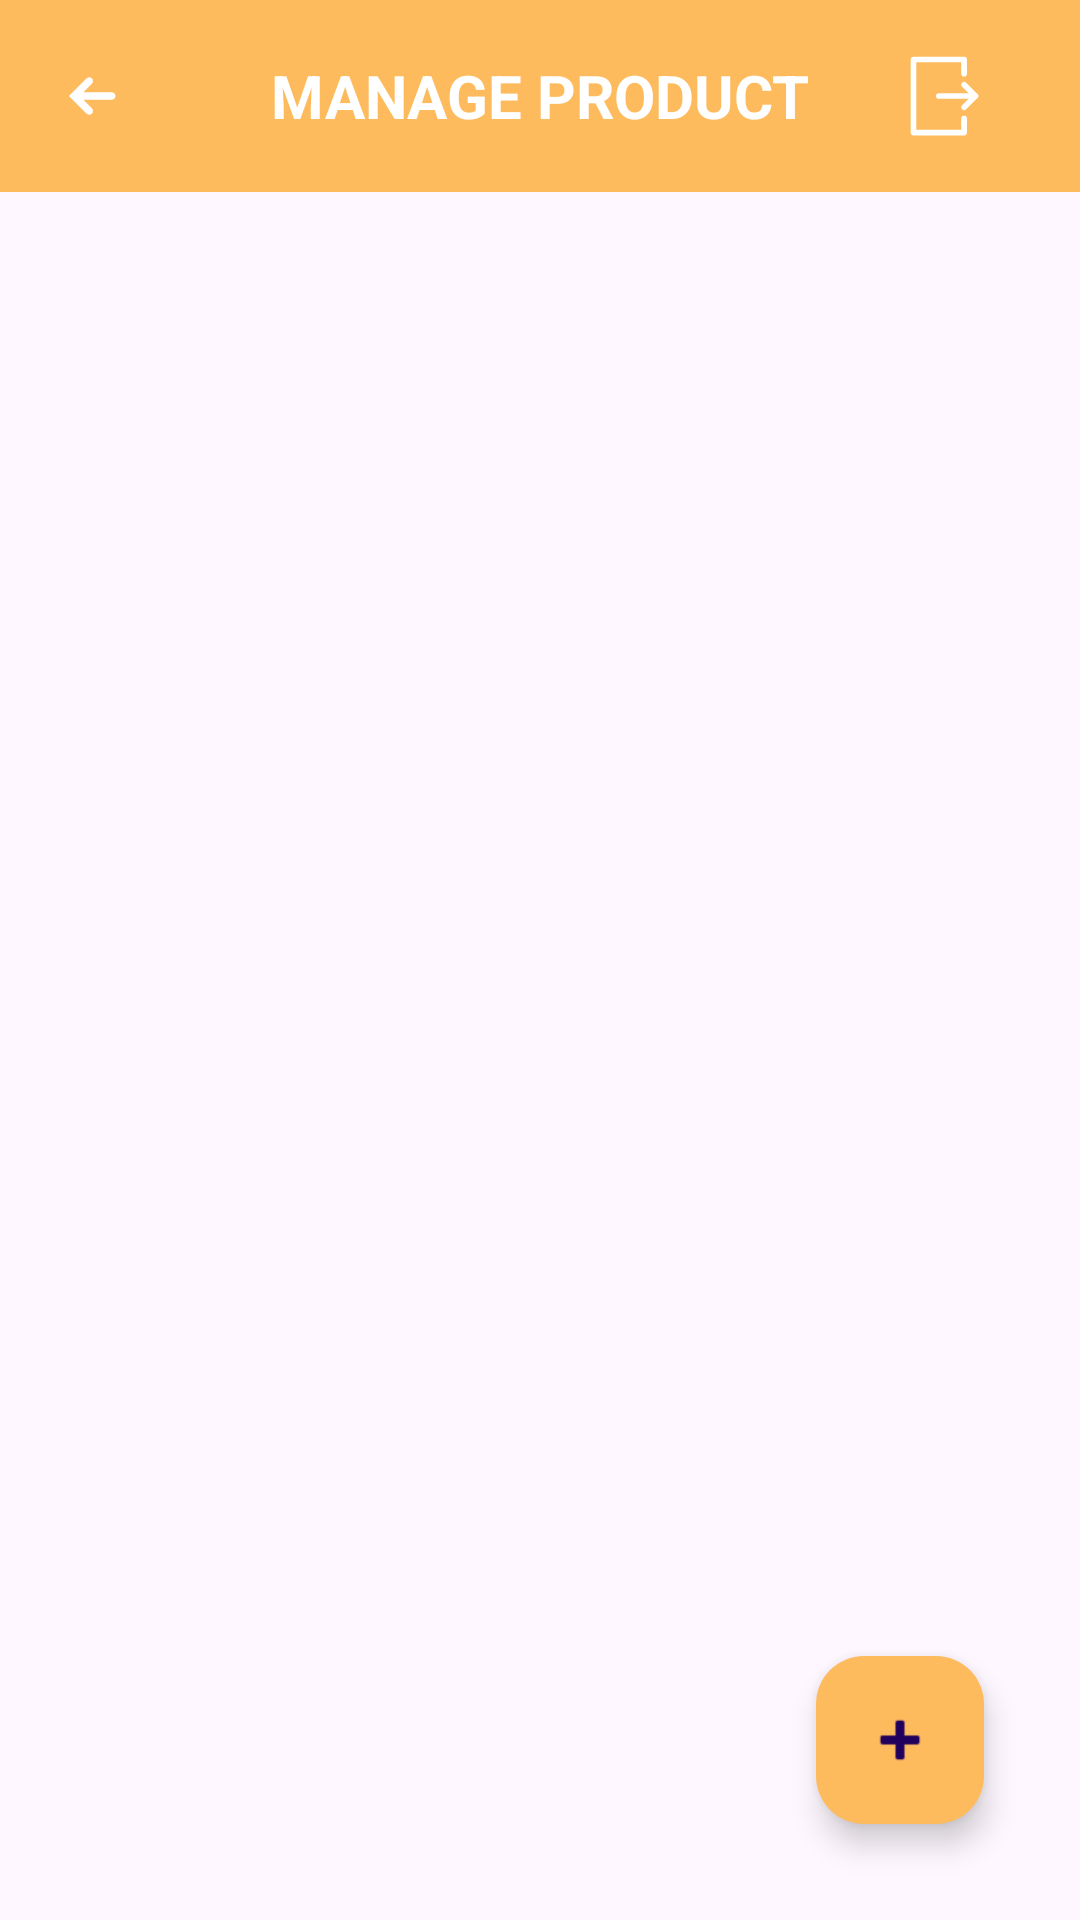

Locate icon controls on the screen. Image size 1080x1920, boxes as (x1, y1, x2, y2).
add: (816, 1656, 984, 1824)
arrow left: (69, 77, 116, 115)
